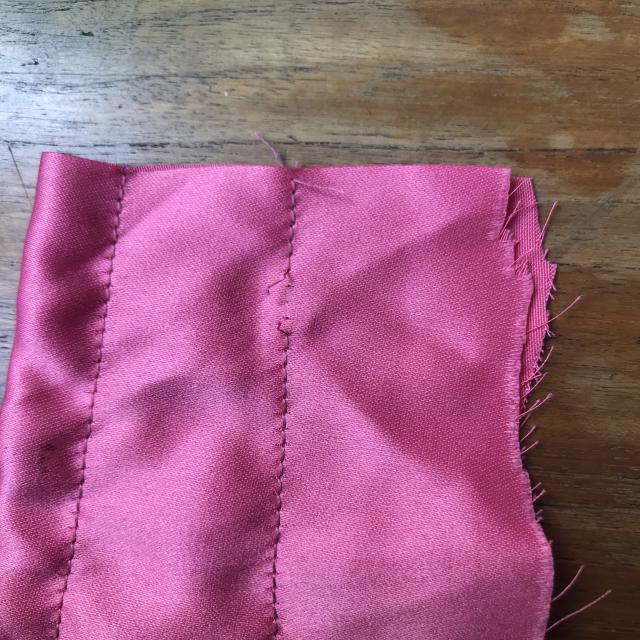broken: (249, 259, 320, 348)
